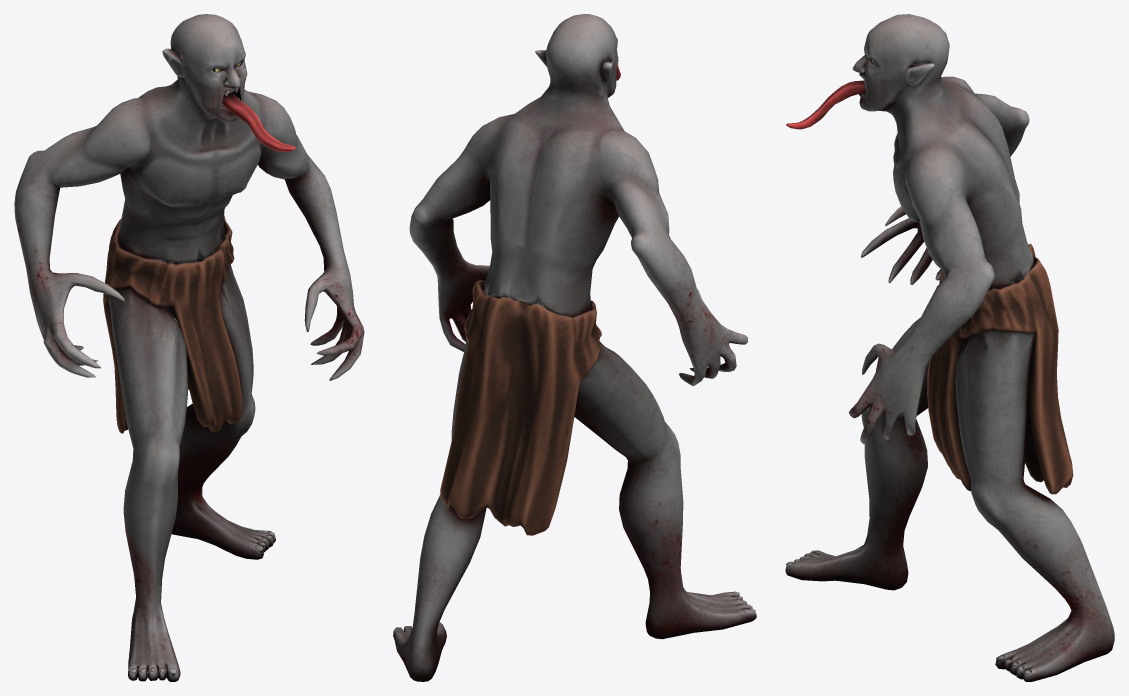
File: Ghoul.glb
3 renders of one model, left to right at view 1: azimuth 30°, elevation 25°; view 2: azimuth 150°, elevation 25°; view 3: azimuth 270°, elevation 25°, orthographic.
Parts seen in each view (by area): view 1: body_low.001; view 2: body_low.001; view 3: body_low.001.
Part boxes in pixels (x1=…): body_low.001: x1=14, y1=14, x2=364, y2=681; body_low.001: x1=393, y1=14, x2=756, y2=681; body_low.001: x1=785, y1=14, x2=1114, y2=681.
Size of the model in its own units: 3 by 5.76 by 2.84.
1 material, 1 textured.
